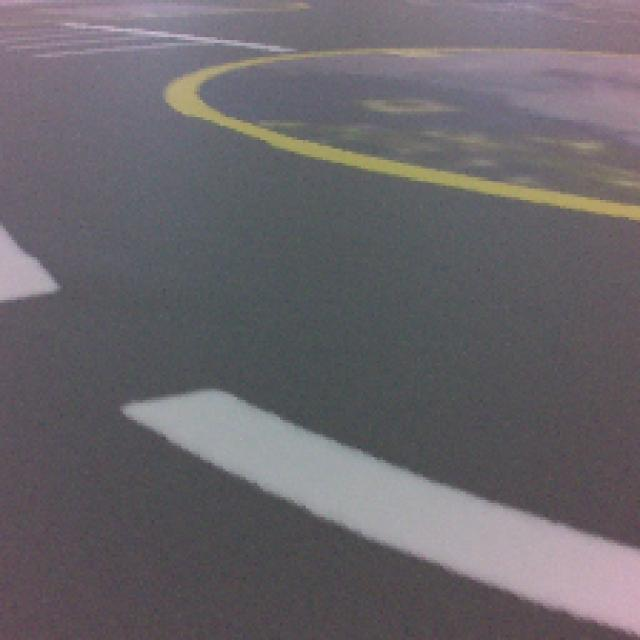Pedestrian crosswalk: (124, 391, 640, 638)
